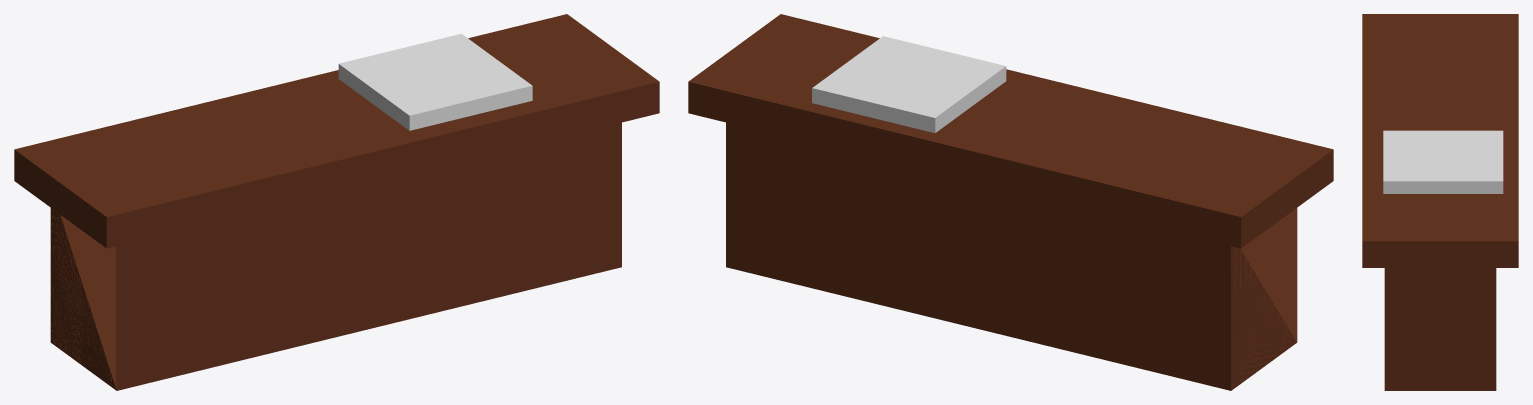
The model's file is Pizza_Counter.fbx.
The picture shows the model from 3 angles, left to right: view 1: azimuth 30°, elevation 25°; view 2: azimuth 150°, elevation 25°; view 3: azimuth 270°, elevation 25°; orthographic projection. The views are drawn at different scales.
Visible parts, largest first — view 1: Pizza_Counter, Cube.025; view 2: Pizza_Counter, Cube.025; view 3: Pizza_Counter, Cube.025.
Boxes of the visible parts, x1,y1,x2,y2 form: Pizza_Counter: [14, 14, 659, 390]; Cube.025: [338, 33, 532, 130]; Pizza_Counter: [688, 14, 1333, 390]; Cube.025: [812, 36, 1006, 132]; Pizza_Counter: [1362, 14, 1518, 390]; Cube.025: [1383, 130, 1503, 193].
Bounding box in the file's own units: 257 × 91.08 × 74.68.
